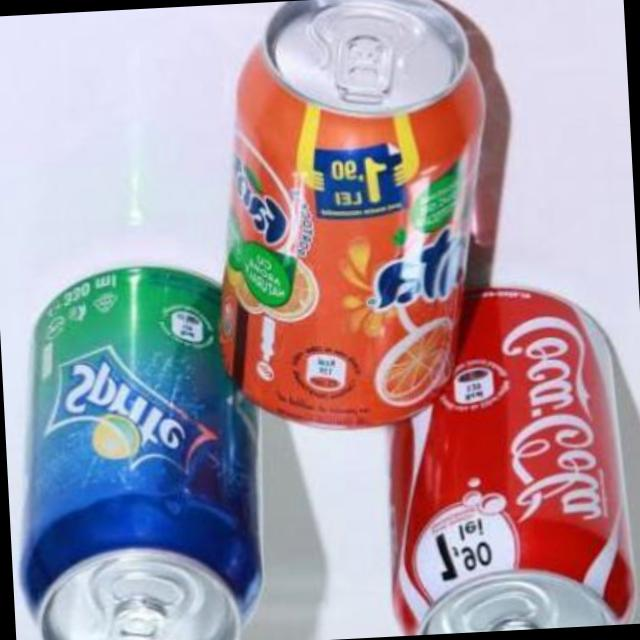metal: (225, 0, 486, 430), (24, 271, 263, 640), (394, 292, 637, 636)
